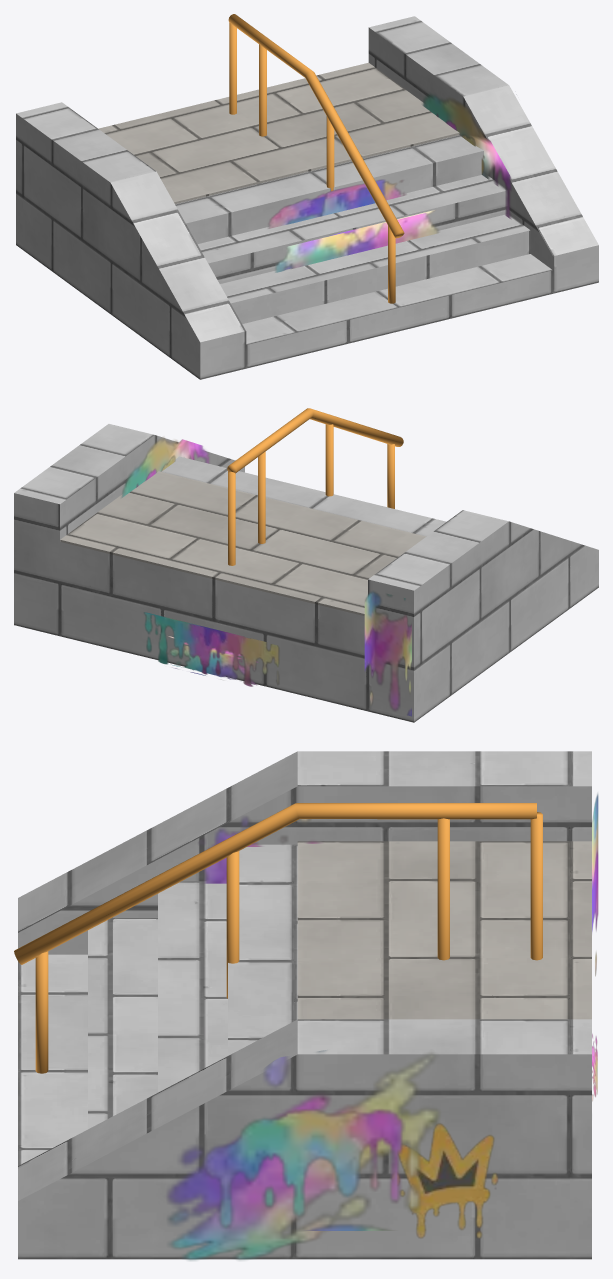
Rendered from StairRail.glb.
The picture shows the model from 3 angles, top to bottom: view 1: azimuth 30°, elevation 25°; view 2: azimuth 150°, elevation 25°; view 3: azimuth 270°, elevation 25°; orthographic projection. The views are drawn at different scales.
Visible parts, largest first — view 1: StairRail_Side-1, StairRail_Top, StairRail_Paint, StairRail_Rail; view 2: StairRail_Side-1, StairRail_Top, StairRail_Paint, StairRail_Rail; view 3: StairRail_Side-1, StairRail_Top, StairRail_Paint, StairRail_Rail, StairRail_Gfx.
Boxes of the visible parts, x1,y1,x2,y2 form: StairRail_Side-1: (16,16,598,379); StairRail_Top: (98,62,459,204); StairRail_Paint: (268,93,516,272); StairRail_Rail: (228,14,404,303); StairRail_Side-1: (14,424,598,722); StairRail_Top: (60,471,425,615); StairRail_Paint: (121,437,411,716); StairRail_Rail: (227,408,403,565); StairRail_Side-1: (18,751,591,1259); StairRail_Top: (297,841,591,1019); StairRail_Paint: (166,793,598,1260); StairRail_Rail: (14,803,542,1073); StairRail_Gfx: (392,1123,498,1238).
Bounding box in the file's own units: 3.94 × 1.87 × 3.18.
4 materials, 3 textured.
